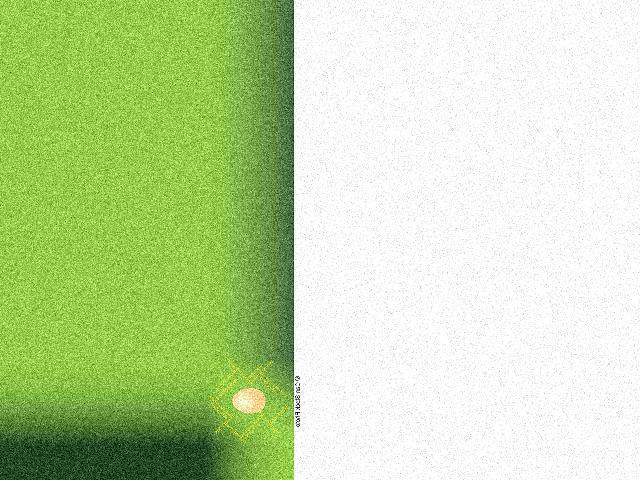egg: (231, 388, 265, 413)
